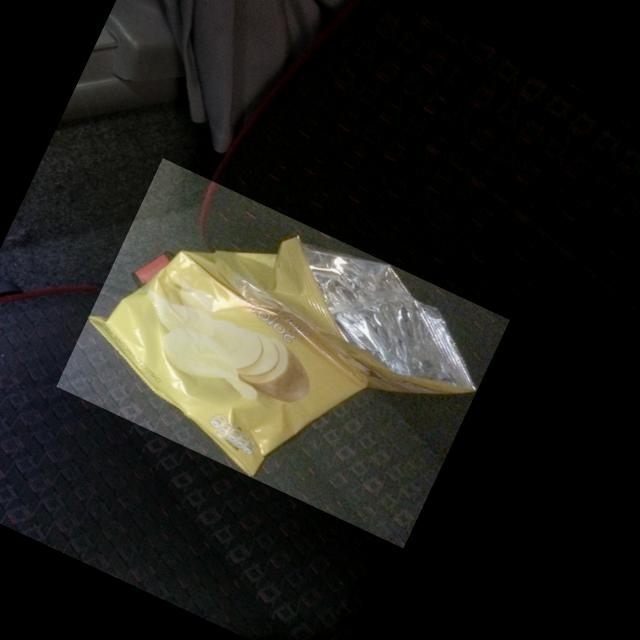Crisp packet: (88, 236, 476, 477)
